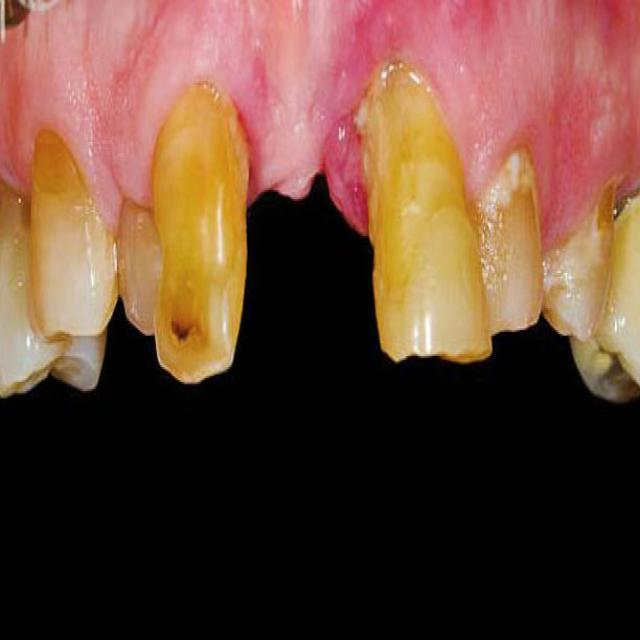caries: (29, 116, 89, 215), (156, 292, 210, 371), (583, 321, 632, 400), (589, 177, 630, 234)
